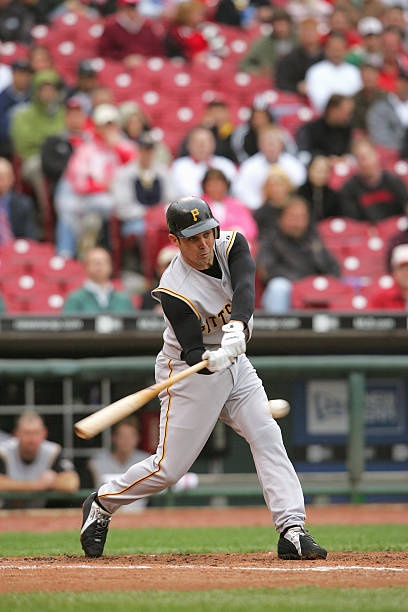bita: (71, 350, 222, 439)
